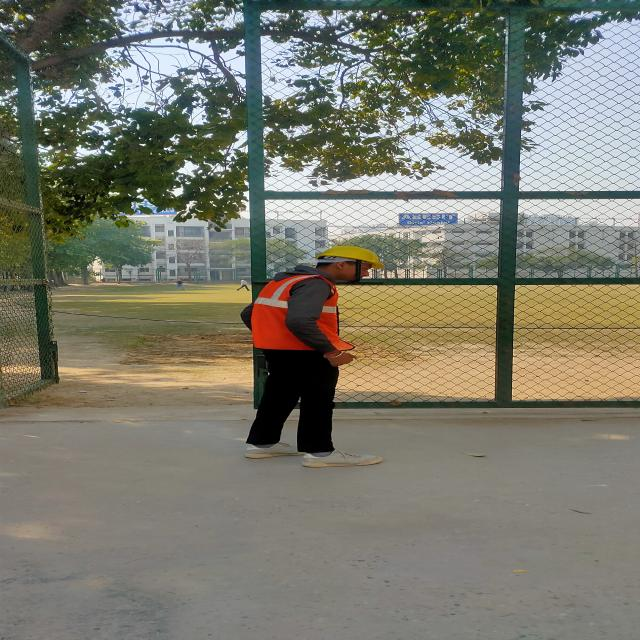safe: (241, 247, 385, 467)
